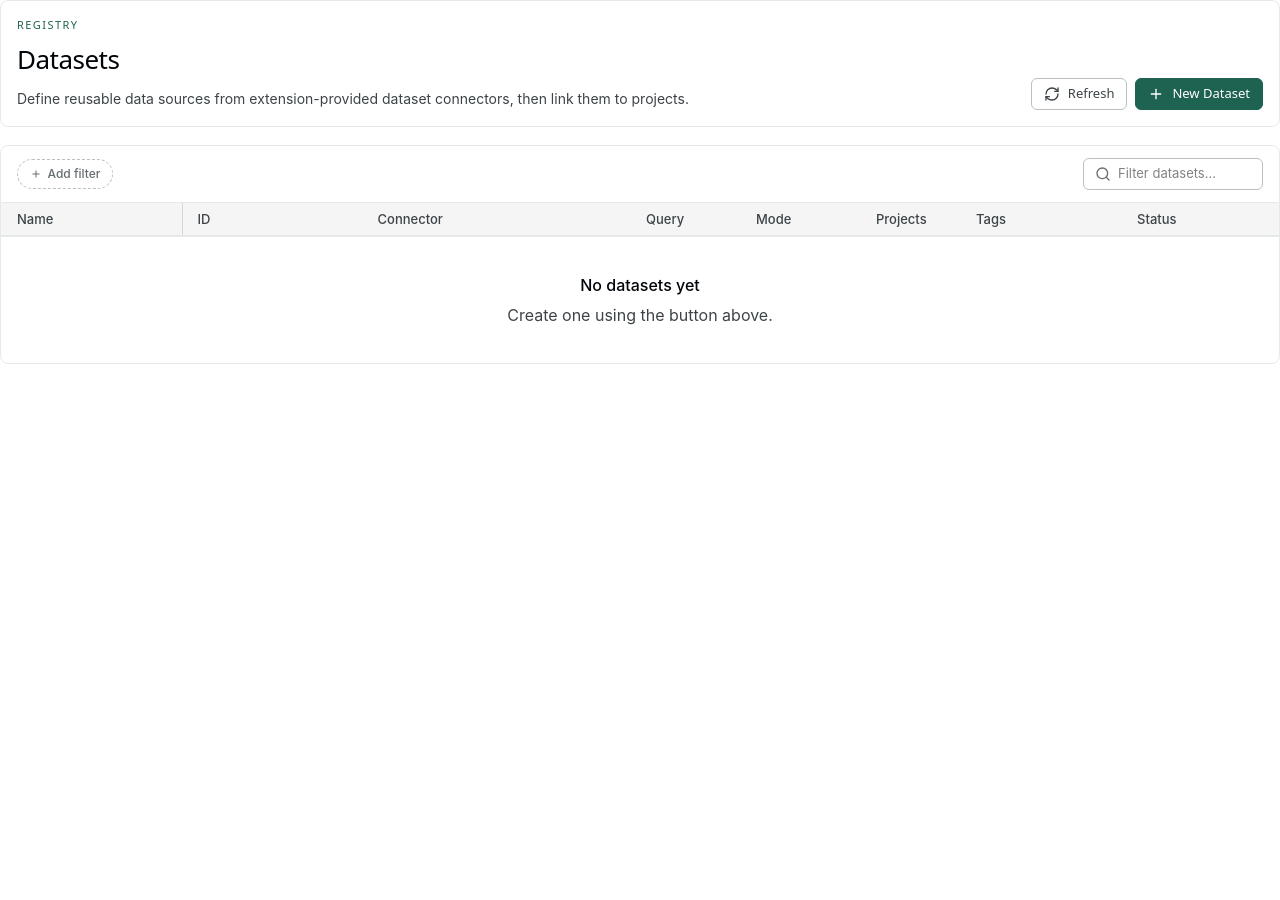
Test case: RegistryDatasetsPage › shows dataset create validation near the submit button
The width and height of the screenshot is (1280, 900).
Click the button "New Dataset": [1199, 94] box [1135,78,1263,110]
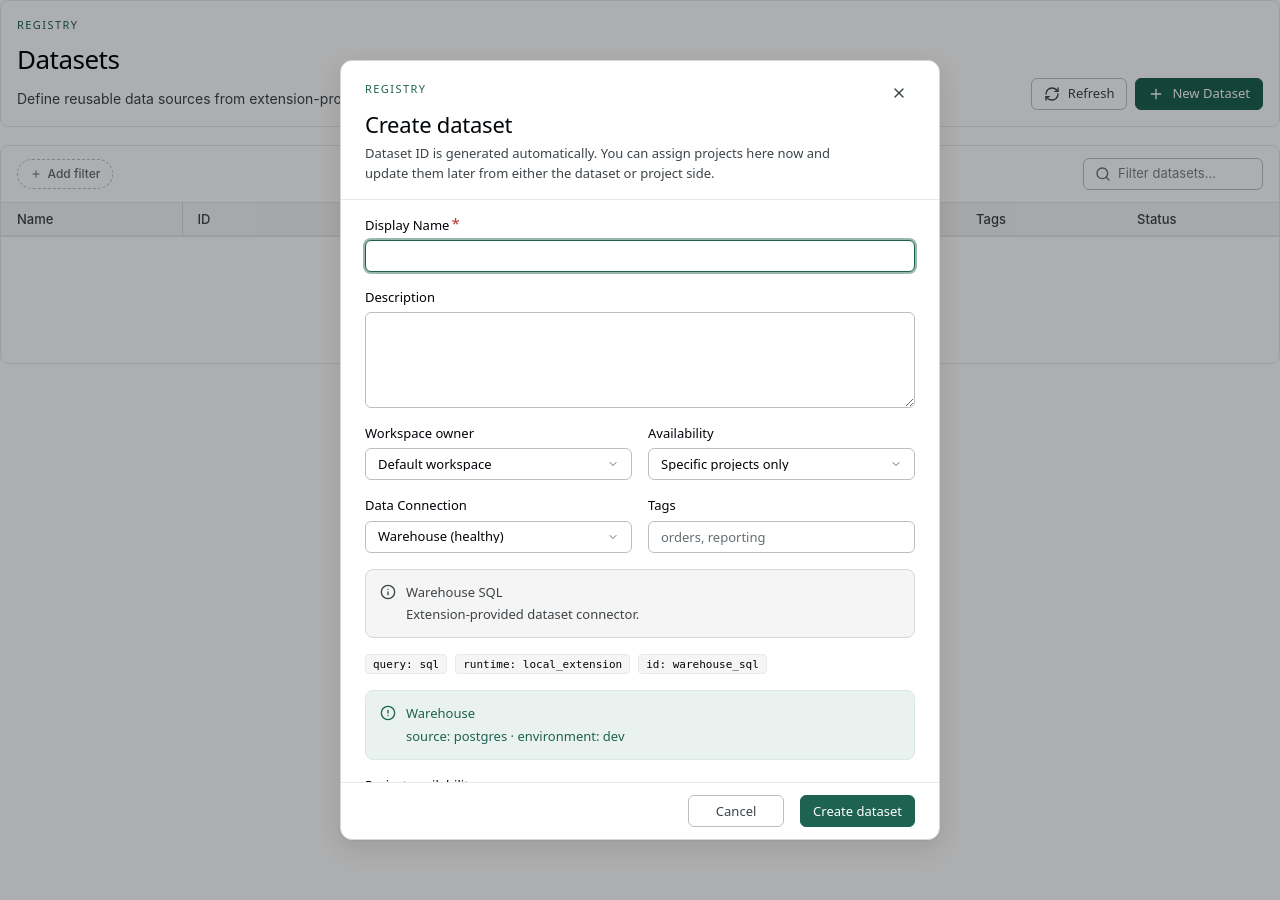
In the field labelled "Display Name": [640, 256] box [365,240,915,272], type "Orders"
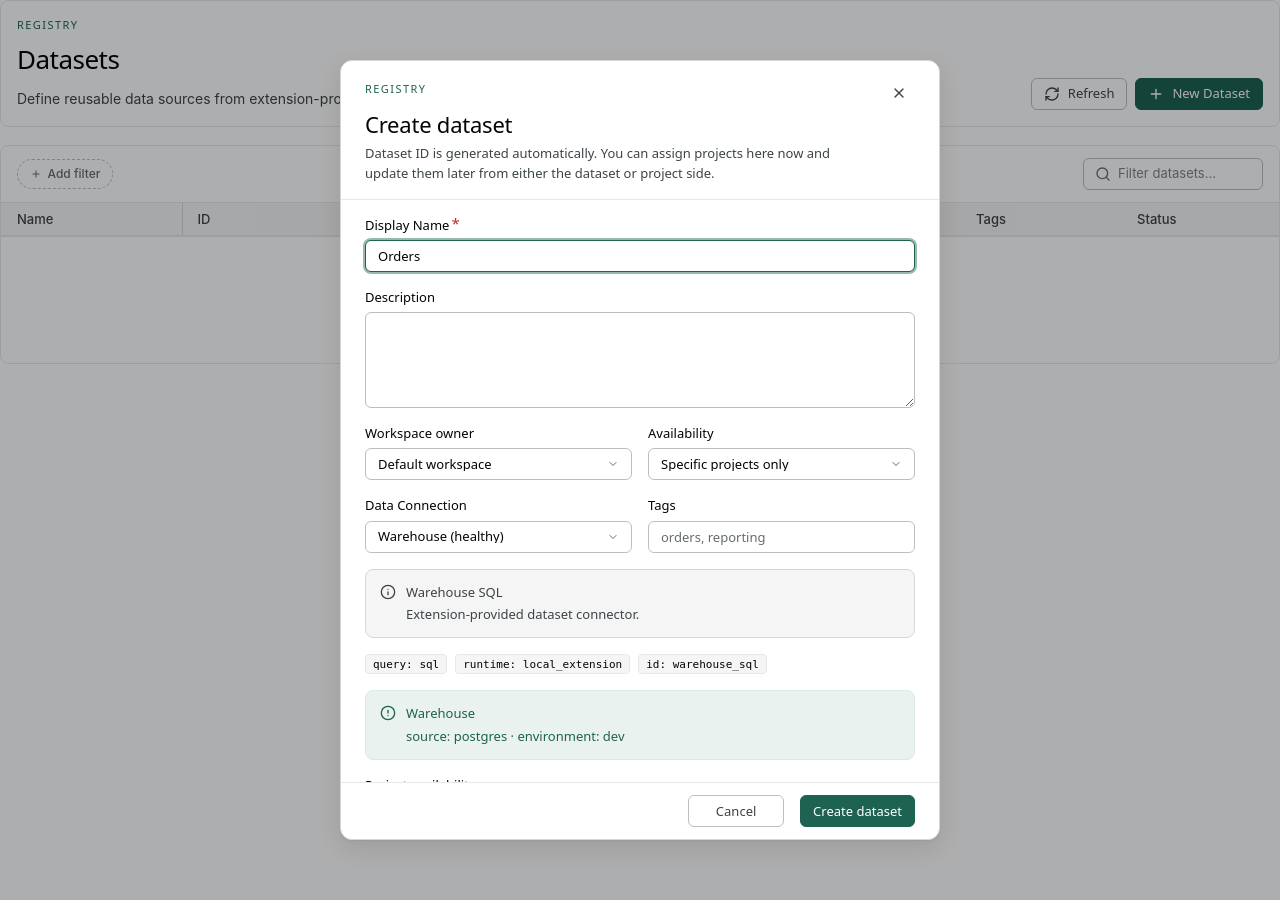
Click the button "Create dataset": [858, 811] box [800,795,915,827]
(page scrolled)
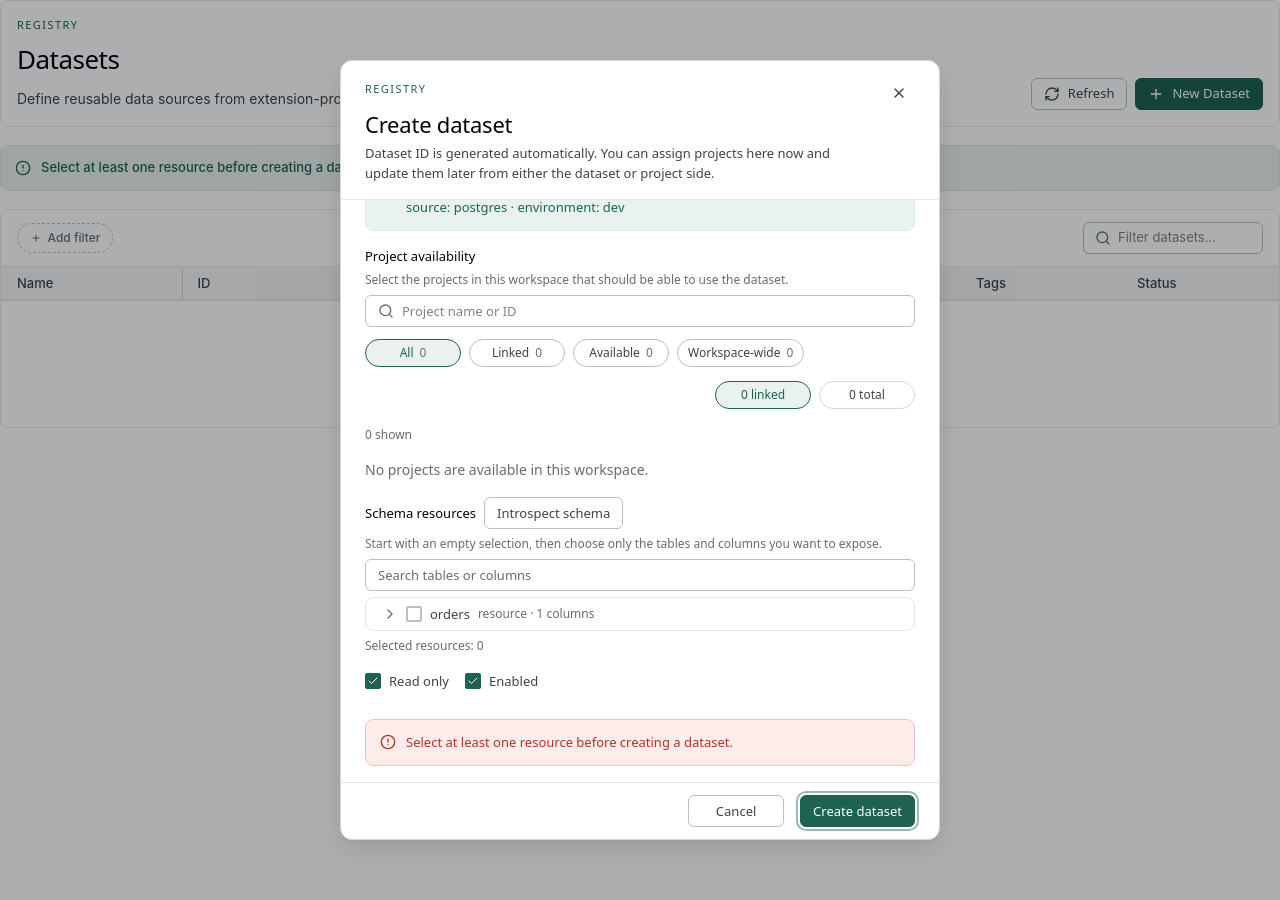
Result: the message reads "Select at least one resource before creating a dataset." at [406,733,733,751]
